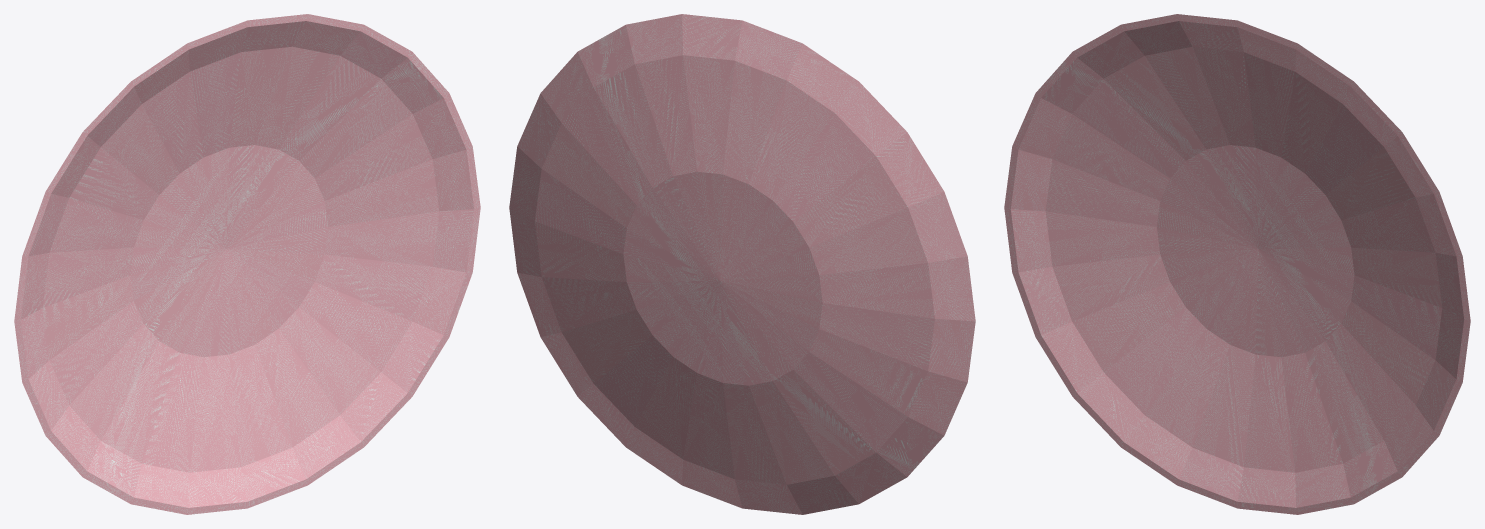
The picture shows the model from 3 angles, left to right: view 1: azimuth 30°, elevation 25°; view 2: azimuth 150°, elevation 25°; view 3: azimuth 330°, elevation 25°; orthographic projection.
Parts seen in each view (by area): view 1: pink plate; view 2: pink plate; view 3: pink plate.
Part boxes in pixels (<box>): pink plate: <box>14,14,480,514</box>; pink plate: <box>509,14,975,514</box>; pink plate: <box>1004,14,1470,514</box>.
Size of the model in its own units: 267 by 267 by 21.95.
